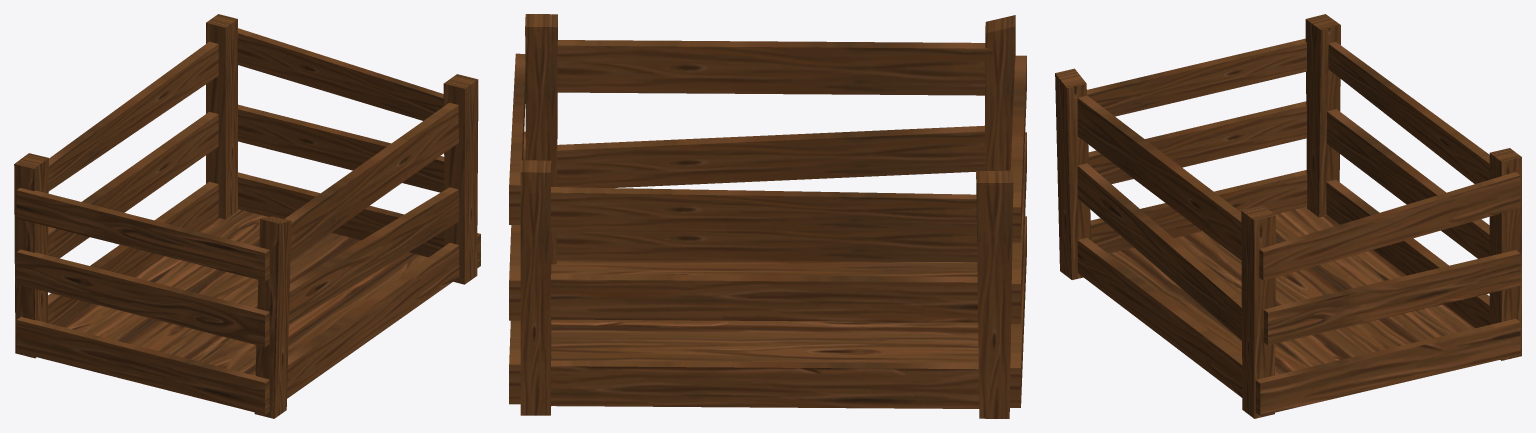
Rendered from Tray.001.fbx.
The picture shows the model from 3 angles, left to right: view 1: azimuth 30°, elevation 25°; view 2: azimuth 150°, elevation 25°; view 3: azimuth 270°, elevation 25°; orthographic projection. The views are drawn at different scales.
Visible parts, largest first — view 1: Tray.002; view 2: Tray.002; view 3: Tray.002.
Boxes of the visible parts, <box> form: Tray.002: <box>14,14,480,418</box>; Tray.002: <box>509,14,1026,418</box>; Tray.002: <box>1055,14,1521,418</box>.
Size of the model in its own units: 0.6161 by 0.2649 by 0.5629.
1 material, 1 textured.
